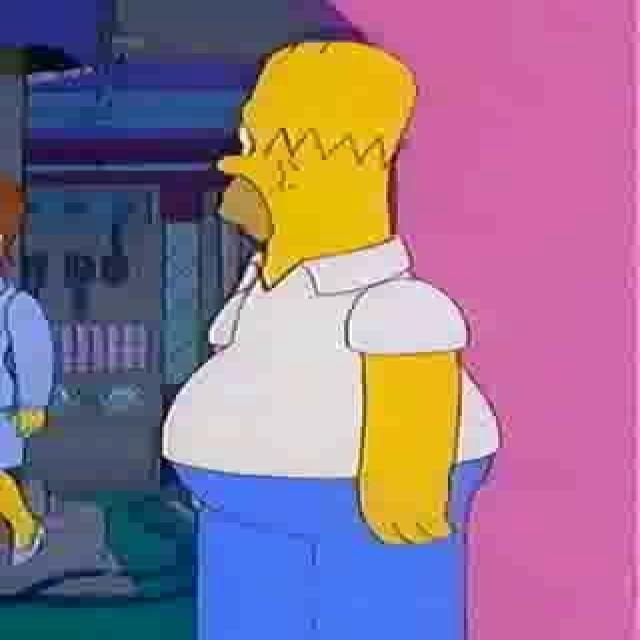Homer Simpson: (208, 26, 424, 281)
